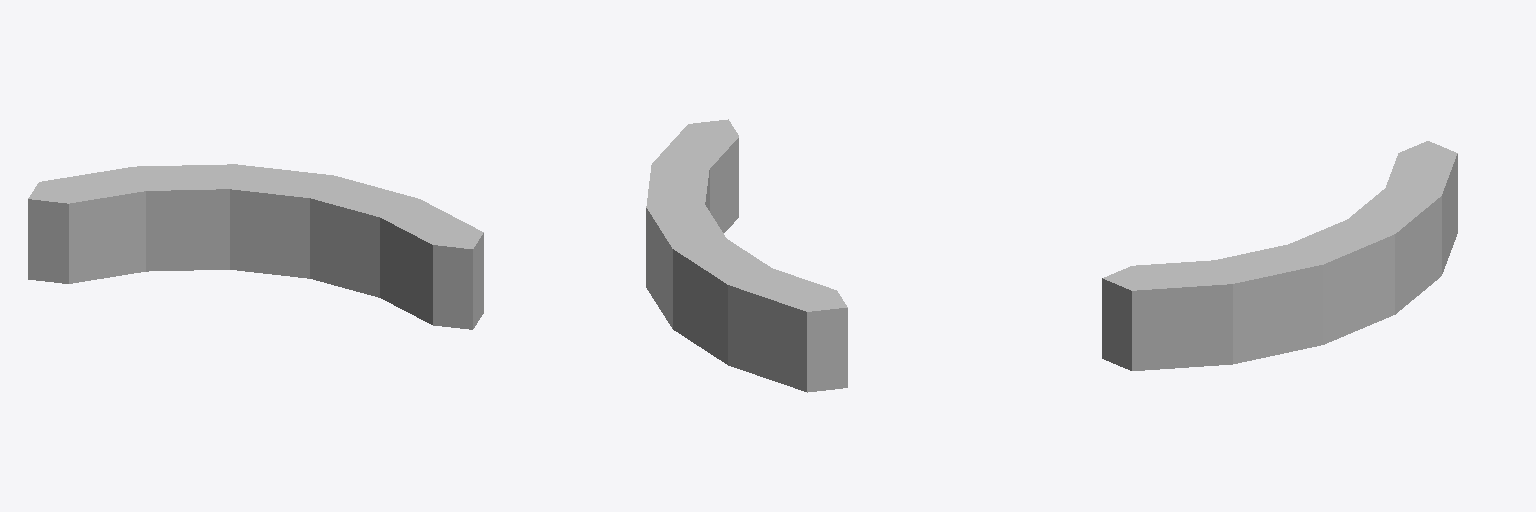
The model's file is Wall_Base_Curved.obj.
3 views of the same model, side by side, from view 1: azimuth 30°, elevation 25°; view 2: azimuth 150°, elevation 25°; view 3: azimuth 270°, elevation 25° (orthographic).
Parts seen in each view (by area): view 1: object1; view 2: object1; view 3: object1.
Part boxes in pixels (x1,y1,x2,y2): object1: (28,164,483,329); object1: (646,119,847,392); object1: (1102,141,1457,370).
Size of the model in its own units: 1.2 by 0.3 by 1.2.